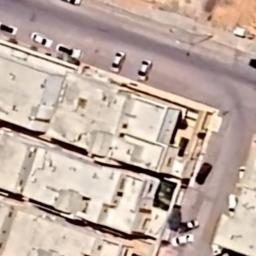SUV: (226, 192, 240, 221)
pickup: (179, 218, 200, 234)
sedan: (55, 43, 84, 62), (194, 160, 213, 186), (30, 30, 54, 50), (110, 49, 127, 75), (170, 232, 196, 248), (136, 58, 152, 82), (0, 20, 20, 38)
